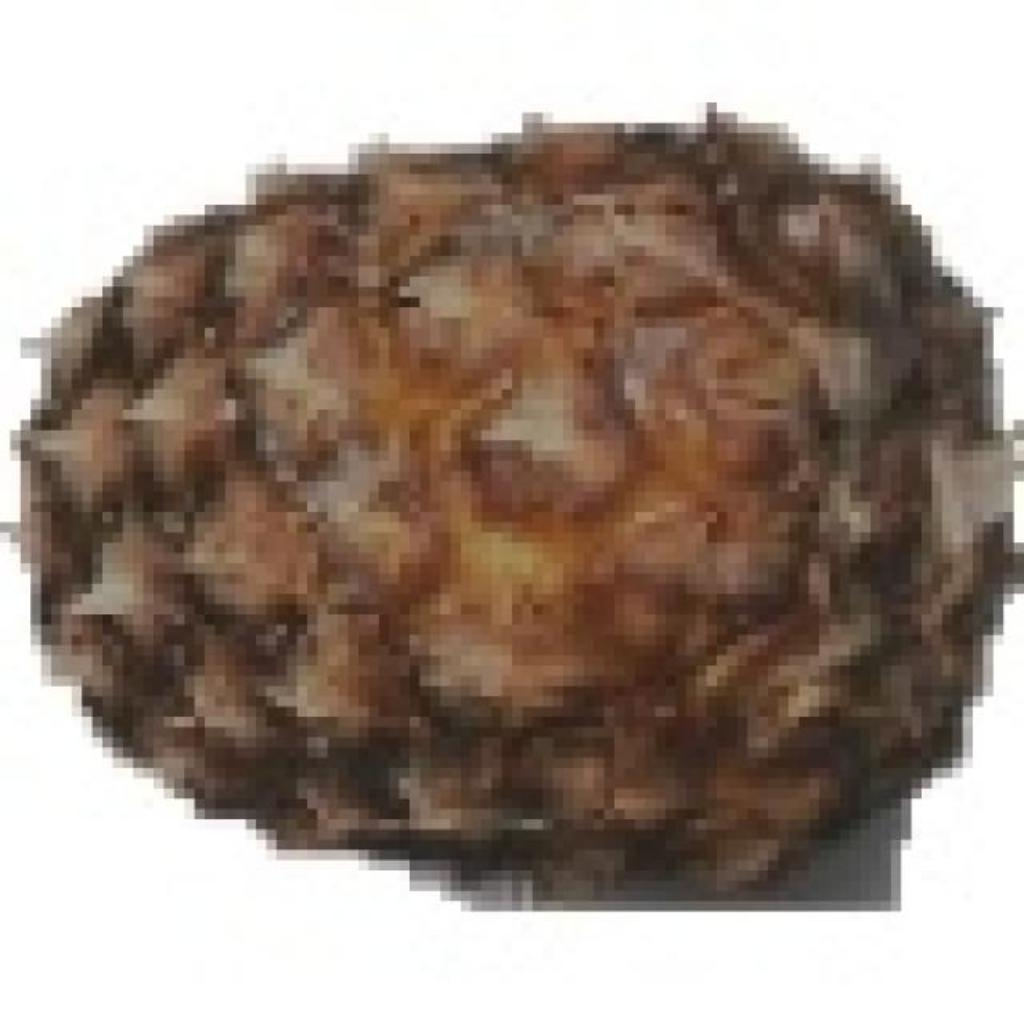pineapple: (10, 102, 983, 881)
